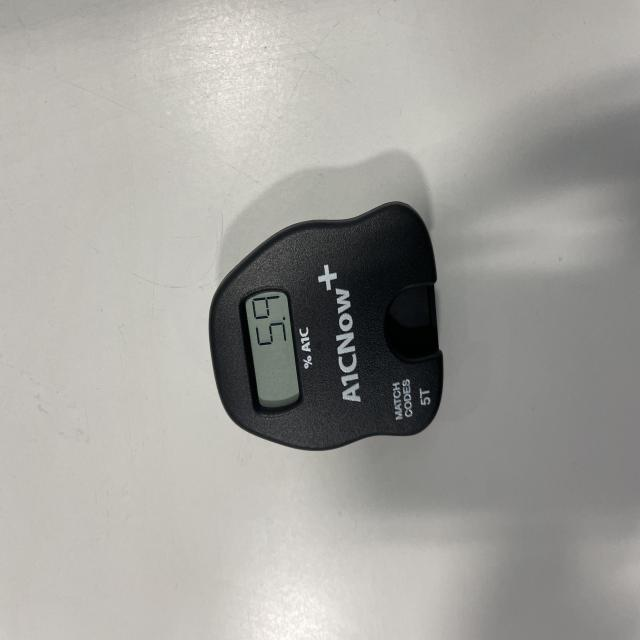hba1c: (208, 201, 445, 454)
